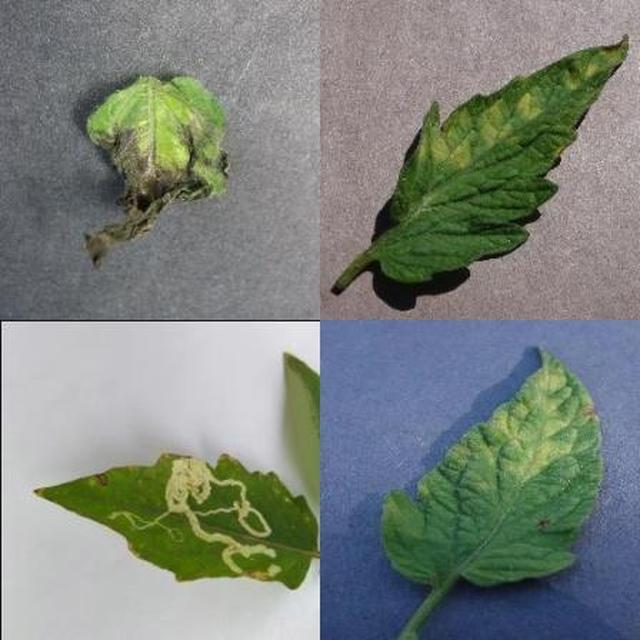Late Blight Leaf: (213, 202, 640, 640)
